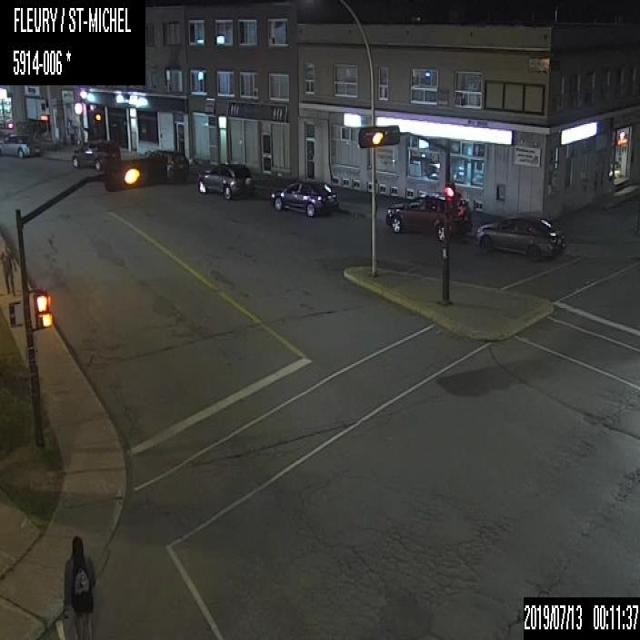pedestrian: (61, 534, 94, 638), (0, 240, 16, 294)
vehicle: (476, 211, 566, 260), (384, 189, 444, 239), (269, 179, 337, 216), (196, 161, 253, 199), (71, 138, 120, 170), (150, 148, 189, 180), (447, 194, 473, 238), (0, 132, 41, 157)
